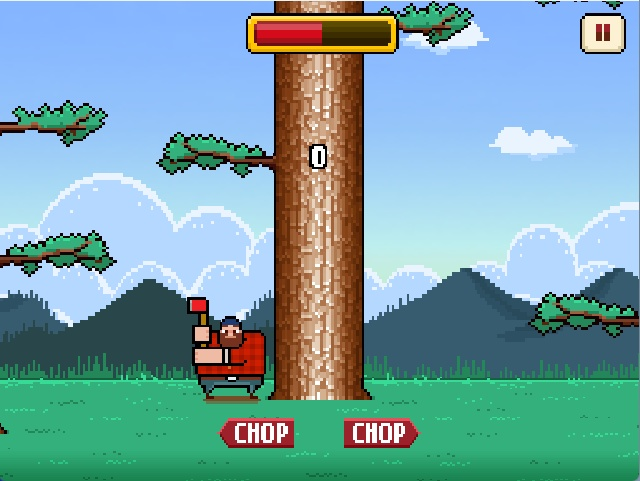left_obs: (154, 125, 276, 182)
timberman: (184, 293, 270, 404)
